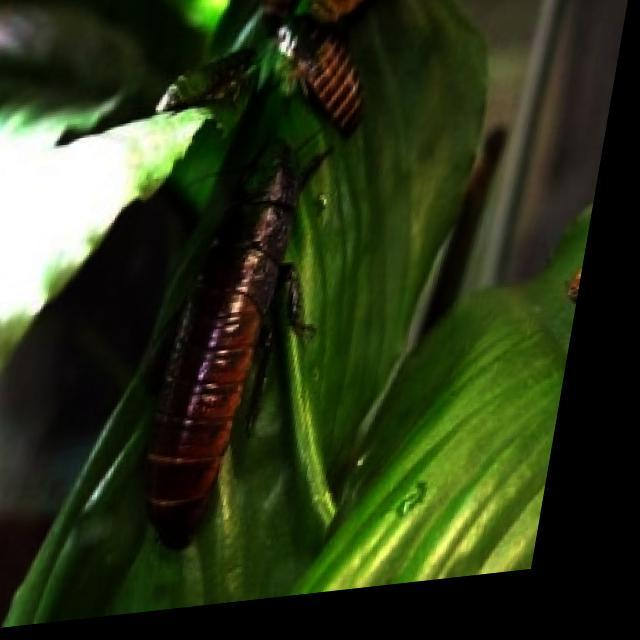cockroach: (99, 122, 325, 564), (270, 15, 380, 154)
